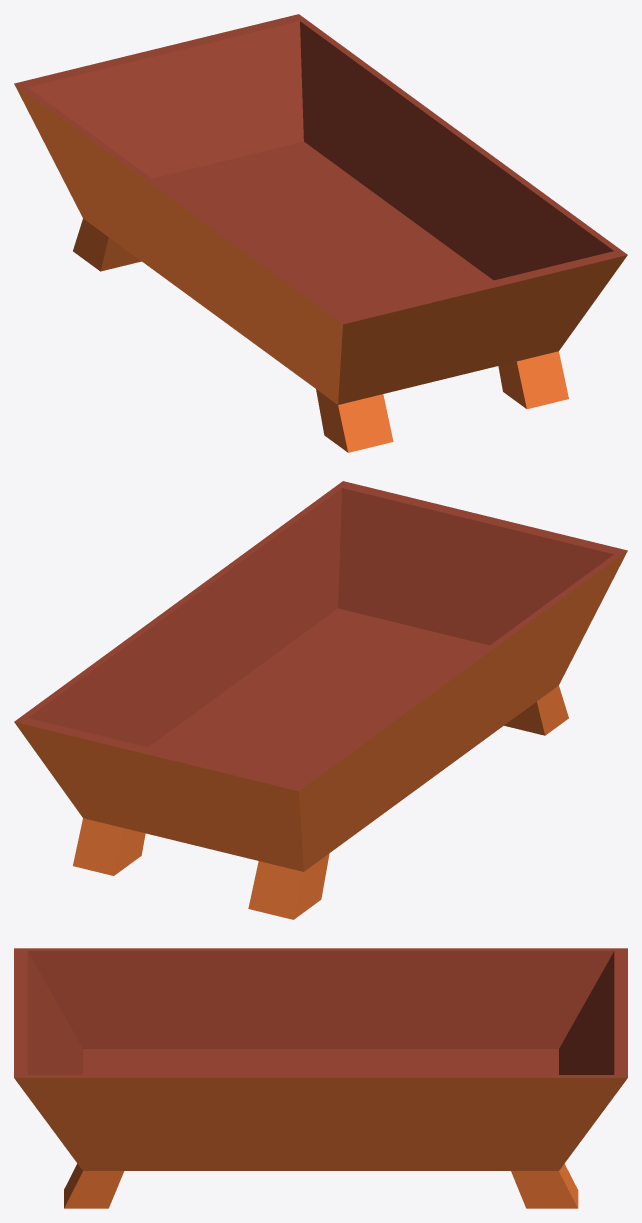
Rendered from FeedingTrough.fbx.
3 renders of one model, top to bottom at view 1: azimuth 30°, elevation 25°; view 2: azimuth 150°, elevation 25°; view 3: azimuth 270°, elevation 25°, orthographic. The views are drawn at different scales.
Visible parts, largest first — view 1: Feeding Trough; view 2: Feeding Trough; view 3: Feeding Trough.
Boxes of the visible parts, x1,y1,x2,y2 form: Feeding Trough: (14, 14, 627, 452); Feeding Trough: (14, 481, 627, 919); Feeding Trough: (14, 948, 627, 1208).
Bounding box in the file's own units: 129 × 67.48 × 258.
